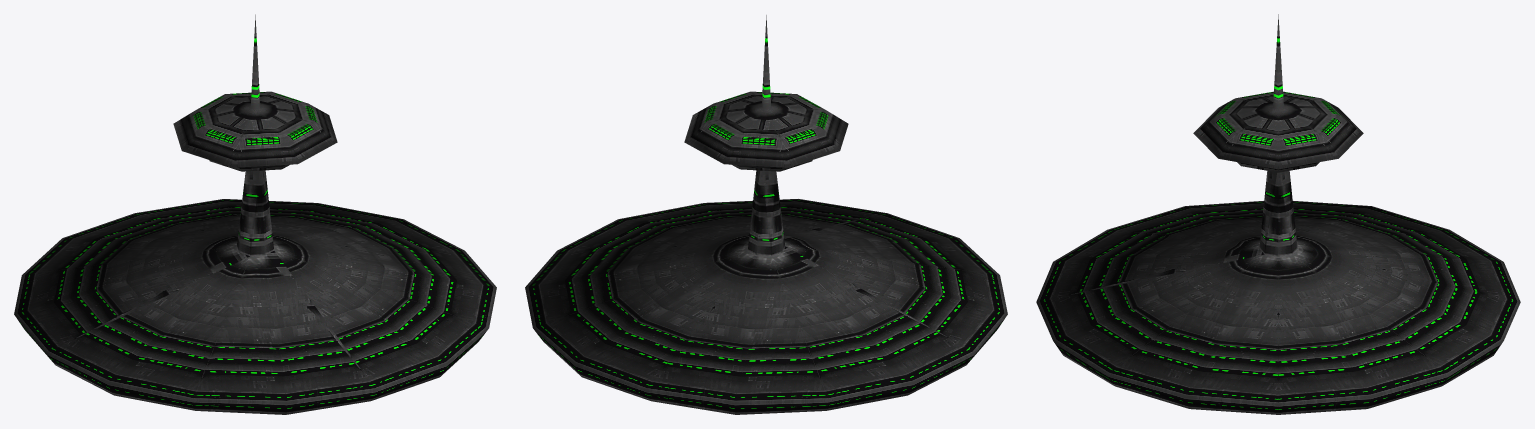
File: Lab.FBX
3 views of the same model, side by side, from view 1: azimuth 30°, elevation 25°; view 2: azimuth 150°, elevation 25°; view 3: azimuth 270°, elevation 25° (orthographic).
Visible parts, largest first — view 1: Space station mesh; view 2: Space station mesh; view 3: Space station mesh.
Boxes of the visible parts, x1,y1,x2,y2 form: Space station mesh: [14, 14, 496, 414]; Space station mesh: [525, 15, 1007, 414]; Space station mesh: [1036, 14, 1520, 414].
Size of the model in its own units: 10.1 by 7.47 by 10.1.
